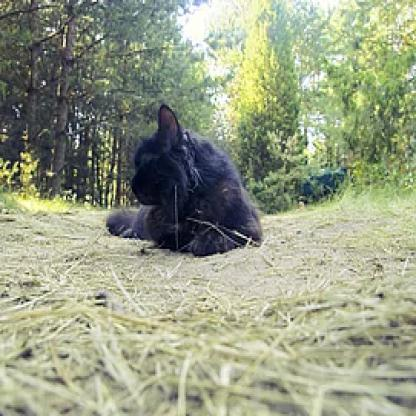cat: (106, 103, 270, 260)
